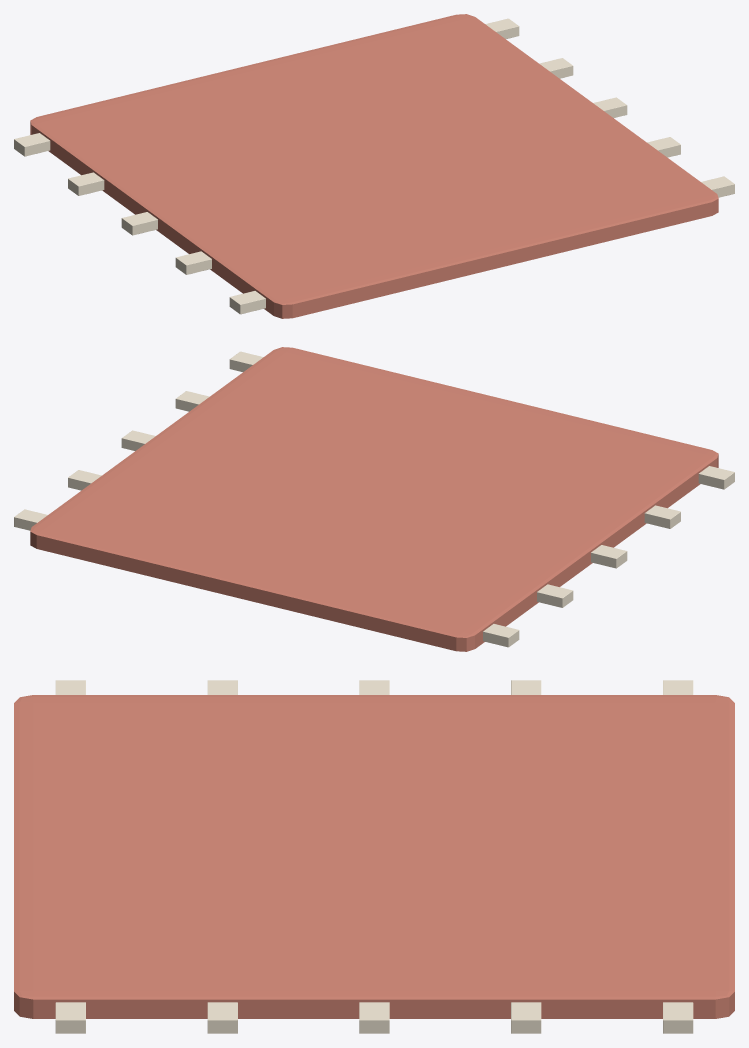
Rendered from rug.glb.
3 views of the same model, one above another, from view 1: azimuth 30°, elevation 25°; view 2: azimuth 150°, elevation 25°; view 3: azimuth 270°, elevation 25° (orthographic). The views are drawn at different scales.
Visible parts, largest first — view 1: rug; view 2: rug; view 3: rug.
Part boxes in pixels (x1,y1,x2,y2): rug: [14, 14, 734, 318]; rug: [14, 347, 734, 651]; rug: [14, 680, 734, 1033].
Bounding box in the file's own units: 2.12 × 0.06 × 1.9.
